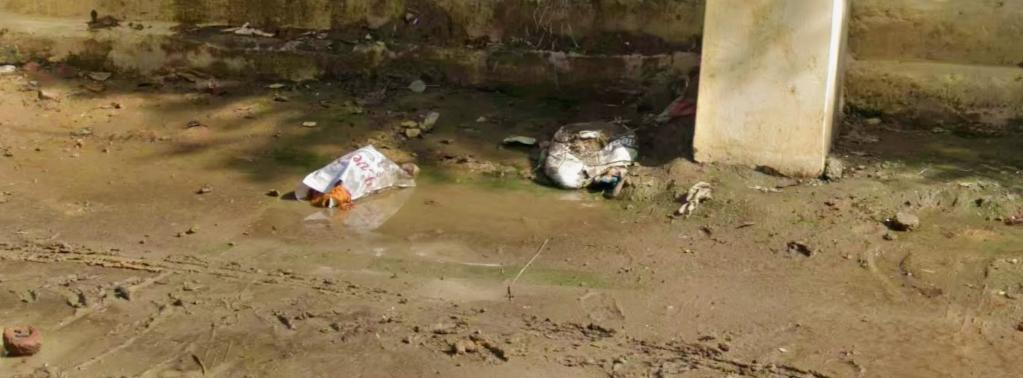garbage: (297, 137, 418, 214)
